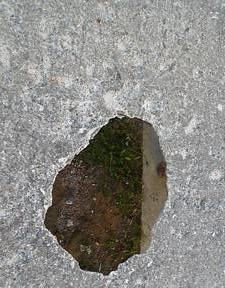Spalling: (44, 114, 168, 277)
